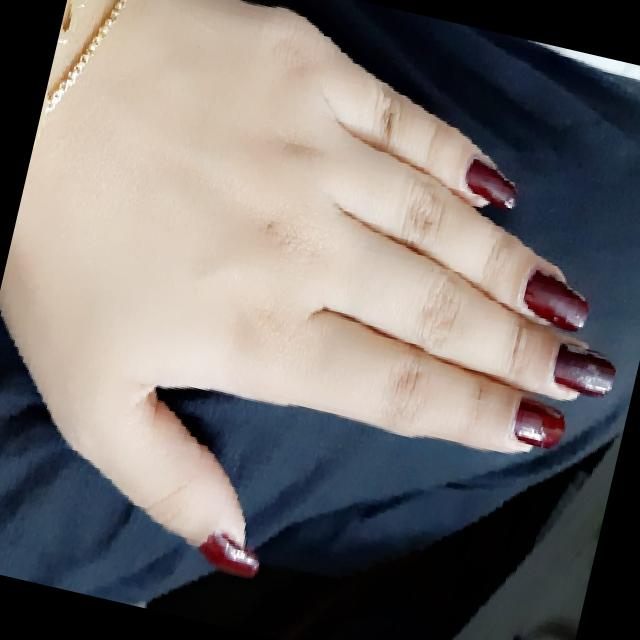Nail: (522, 270, 587, 331), (553, 343, 615, 397), (198, 533, 258, 578), (513, 397, 564, 448), (465, 159, 515, 209)
